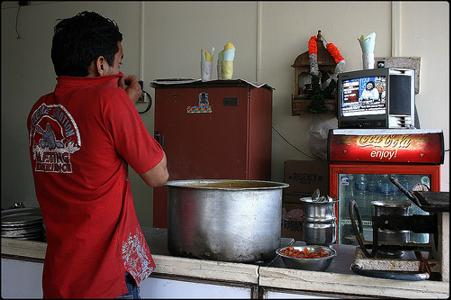person: (27, 12, 171, 299)
